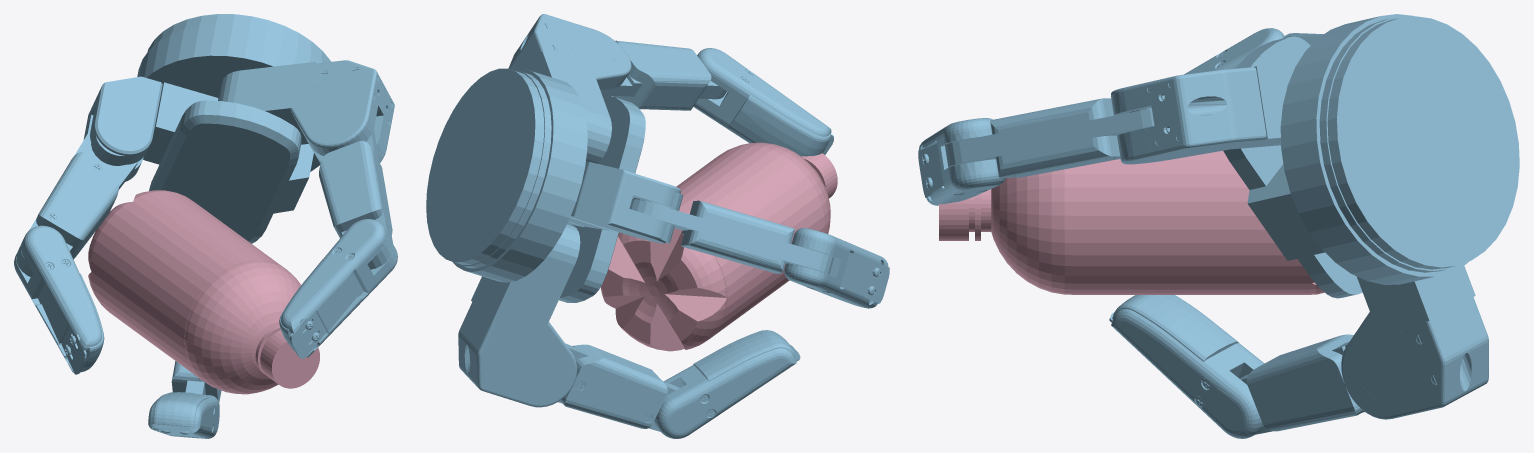
The picture shows the model from 3 angles, left to right: view 1: azimuth 30°, elevation 25°; view 2: azimuth 150°, elevation 25°; view 3: azimuth 270°, elevation 25°; orthographic projection. The views are drawn at different scales.
Parts seen in each view (by area): view 1: world, water_bottle.stl; view 2: world, water_bottle.stl; view 3: world, water_bottle.stl.
Part boxes in pixels (bbox=[...]): world: bbox=[14, 14, 397, 438]; water_bottle.stl: bbox=[88, 190, 319, 394]; world: bbox=[426, 14, 889, 438]; water_bottle.stl: bbox=[600, 142, 837, 351]; world: bbox=[918, 14, 1519, 438]; water_bottle.stl: bbox=[939, 150, 1324, 294].
Size of the model in its own units: 0.1753 by 0.1719 by 0.2009.
